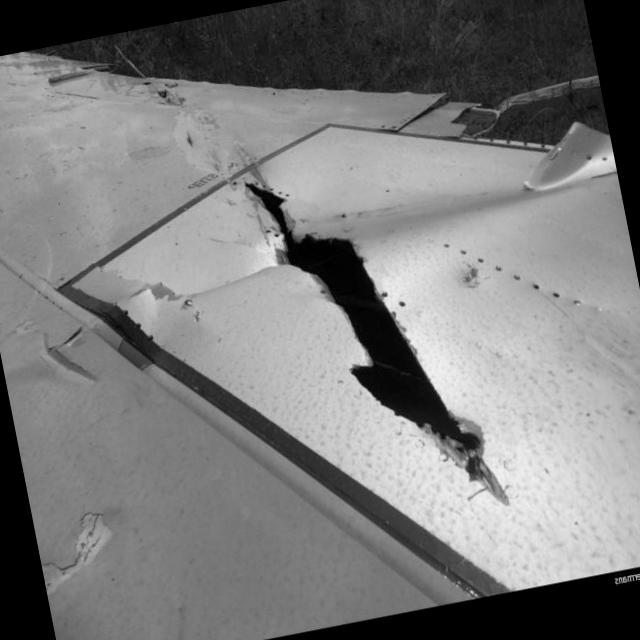crack: (236, 140, 511, 540), (182, 128, 194, 149)
